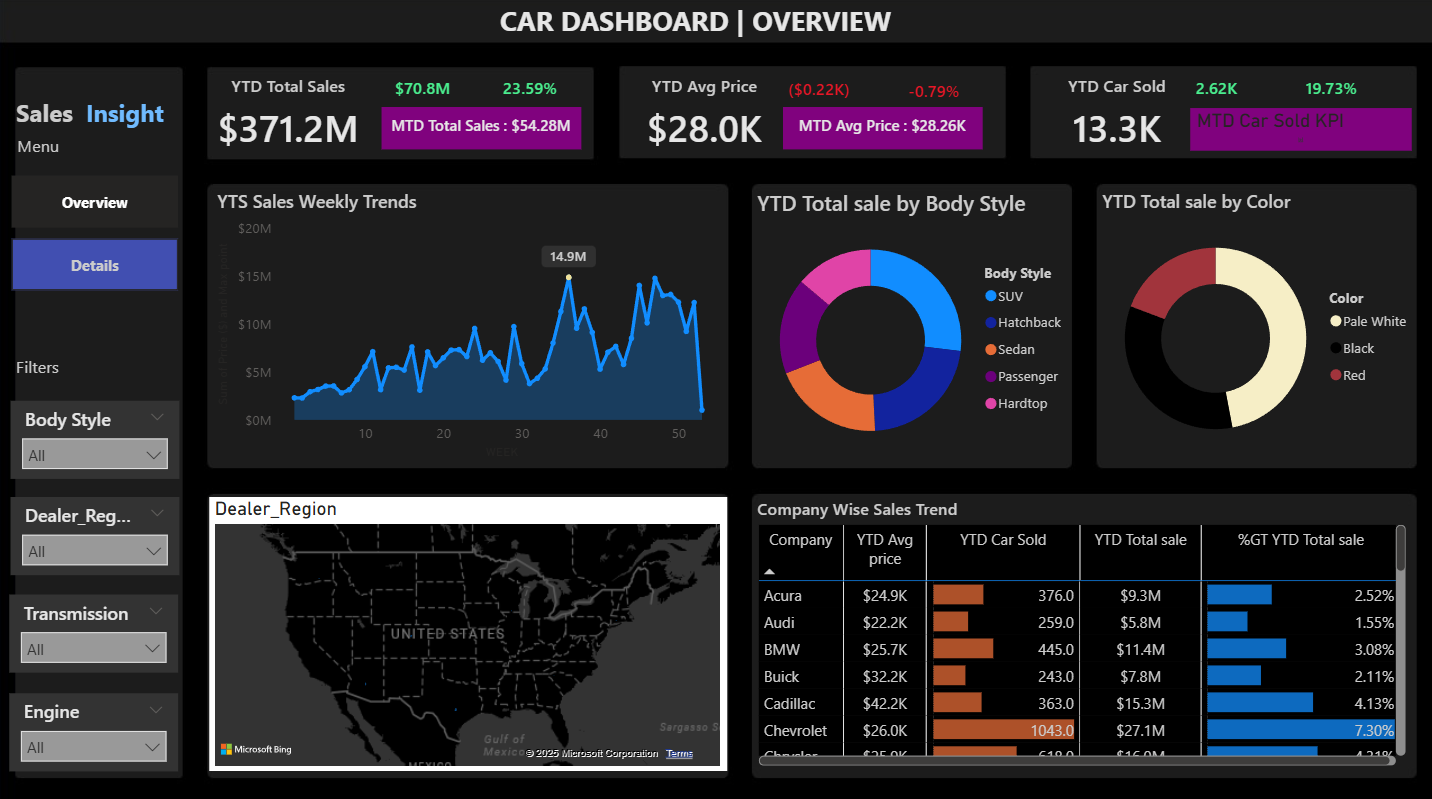

The page's visual inventory and layout, read from the dashboard file:
{"tool":"powerbi","page":{"name":"Overview","canvas":[1280,720],"ordinal":0},"visuals":[{"type":"card","title":"YTD Total Sales","fields":{"Values":["car_data.YTD Total sale"]},"box":[188.8,68.8,138.8,75],"z":0},{"type":"card","title":"YTD Total Sales","fields":{"Values":["car_data.Sales Difference"]},"box":[327.5,68.8,102.5,28.8],"z":1000},{"type":"card","title":"YTD Total Sales","fields":{"Values":["car_data.YoY Growth"]},"box":[430,68.8,88.8,28.8],"z":2000},{"type":"card","fields":{"Values":["car_data.MTD KPI"]},"box":[341.2,97.5,177.5,37.5],"z":3000},{"type":"card","title":"YTD Avg Price","fields":{"Values":["car_data.YTD Avg price"]},"box":[560,68.8,138.8,75],"z":4000},{"type":"card","title":"YTD Total Sales","fields":{"Values":["car_data.Avg price difference"]},"box":[680,70,102.5,28.8],"z":5000},{"type":"card","title":"YTD Total Sales","fields":{"Values":["car_data.YoY Avg Price growth"]},"box":[782.5,71.2,102.5,28.8],"z":6000},{"type":"card","fields":{"Values":["car_data.MTD Avg price KPI"]},"box":[698.8,97.5,177.5,37.5],"z":7000},{"type":"card","title":"YTD Car Sold","fields":{"Values":["car_data.YTD Car Sold"]},"box":[927.5,68.8,138.8,75],"z":8000},{"type":"card","title":"YTD Total Sales","fields":{"Values":["car_data.Car Sold Difference"]},"box":[1033.8,68.8,102.5,28.8],"z":9000},{"type":"card","title":"YTD Total Sales","fields":{"Values":["car_data.YoY Car sold Growth"]},"box":[1136.2,68.8,102.5,28.8],"z":10000},{"type":"areaChart","box":[1061.7,98.9,196.6,37.4],"z":11000},{"type":"areaChart","title":"YTS Sales Weekly Trends","fields":{"Category":["Calender Table.WEEK"],"Y":["Sum(car_data.Price ($))","car_data.Max point"]},"box":[190,170,458.8,246.2],"z":12000},{"type":"donutChart","fields":{"Category":["car_data.Body Style"],"Y":["car_data.YTD Total sale"]},"box":[671.2,170,290,246.2],"z":13000},{"type":"donutChart","fields":{"Y":["car_data.YTD Total sale"],"Category":["car_data.Color"]},"box":[978.8,170,290,246.2],"z":14000},{"type":"filledMap","fields":{"Category":["car_data.Dealer_Region"]},"box":[188.4,445.4,460.5,244.2],"z":15000},{"type":"tableEx","title":"Company Wise Sales Trend","fields":{"Values":["car_data.Company","car_data.YTD Avg price","car_data.YTD Car Sold","car_data.YTD Total sale1","car_data.YTD Total sale"]},"box":[670.9,445.4,587.2,244.2],"z":16000},{"type":"textbox","box":[224.9,0,792.6,45.6],"z":17000},{"type":"slicer","fields":{"Values":["car_data.Body Style"]},"box":[11.6,359.3,150,69.8],"z":18000},{"type":"slicer","fields":{"Values":["car_data.Engine"]},"box":[10.5,619.8,150,69.8],"z":19000},{"type":"slicer","fields":{"Values":["car_data.Transmission"]},"box":[10.5,532.6,150,69.8],"z":20000},{"type":"slicer","fields":{"Values":["car_data.Dealer_Region"]},"box":[11.6,445.4,150,69.8],"z":21000},{"type":"textbox","box":[11.6,314,114,37.2],"z":22000},{"type":"textbox","box":[10.9,83.2,177.3,51.9],"z":22001},{"type":"textbox","box":[12.1,117,123.1,42.2],"z":22002},{"type":"pageNavigator","box":[12.1,159.3,148.4,102.5],"z":22003}]}

Visuals, with their boxes in screenshot pixels (x1, y1, x2, y2), scaled from the page's 1280x720 canvas onto the 1432x799 screenshot:
"YTD Total Sales" card: l=211, t=76, r=367, b=160
"YTD Total Sales" card: l=366, t=76, r=481, b=108
"YTD Total Sales" card: l=481, t=76, r=580, b=108
card - car_data.MTD KPI: l=382, t=108, r=580, b=150
"YTD Avg Price" card: l=626, t=76, r=782, b=160
"YTD Total Sales" card: l=761, t=78, r=875, b=110
"YTD Total Sales" card: l=875, t=79, r=990, b=111
card - car_data.MTD Avg price KPI: l=782, t=108, r=980, b=150
"YTD Car Sold" card: l=1038, t=76, r=1193, b=160
"YTD Total Sales" card: l=1157, t=76, r=1271, b=108
"YTD Total Sales" card: l=1271, t=76, r=1386, b=108
areaChart: l=1188, t=110, r=1408, b=151
"YTS Sales Weekly Trends" areaChart: l=213, t=189, r=726, b=462
donutChart - car_data.Body Style x car_data.YTD Total sale: l=751, t=189, r=1075, b=462
donutChart - car_data.YTD Total sale x car_data.Color: l=1095, t=189, r=1419, b=462
filledMap - car_data.Dealer_Region: l=211, t=494, r=726, b=765
"Company Wise Sales Trend" tableEx: l=751, t=494, r=1407, b=765
textbox: l=252, t=0, r=1138, b=51
slicer - car_data.Body Style: l=13, t=399, r=181, b=476
slicer - car_data.Engine: l=12, t=688, r=180, b=765
slicer - car_data.Transmission: l=12, t=591, r=180, b=668
slicer - car_data.Dealer_Region: l=13, t=494, r=181, b=572
textbox: l=13, t=348, r=141, b=390
textbox: l=12, t=92, r=211, b=150
textbox: l=14, t=130, r=151, b=177
pageNavigator: l=14, t=177, r=180, b=291
